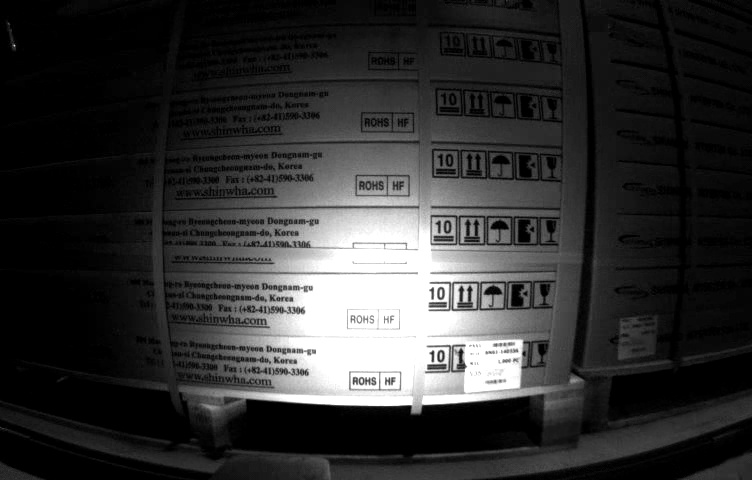True Barcode: (464, 342, 522, 391), (618, 314, 658, 361)
